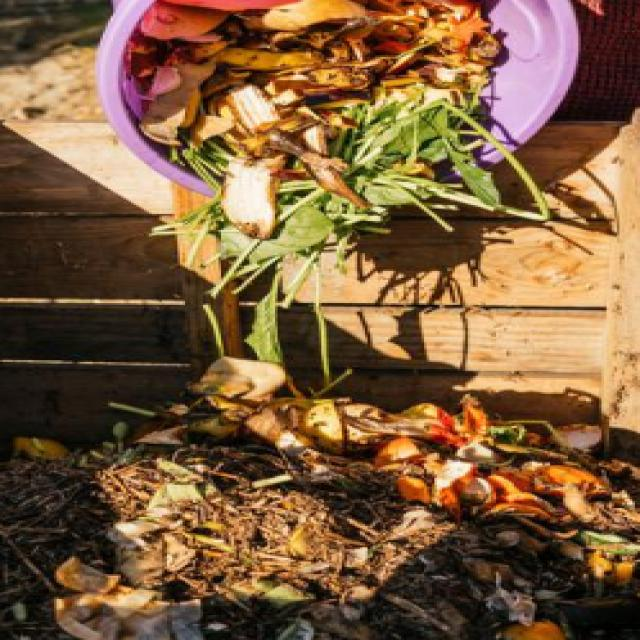paper: (339, 94, 546, 219), (204, 149, 303, 238)
